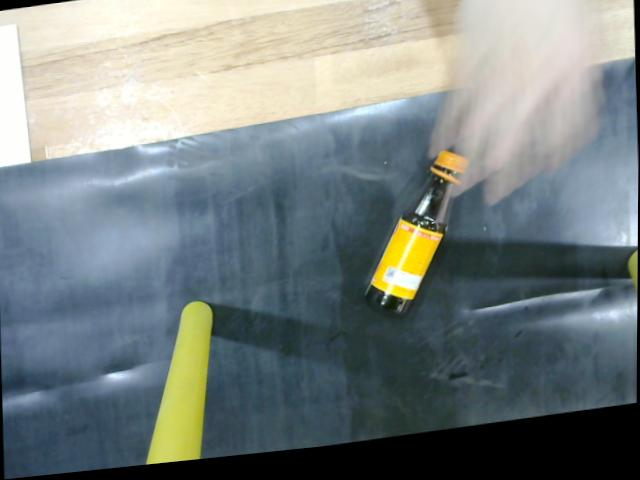glass: (358, 154, 478, 338)
